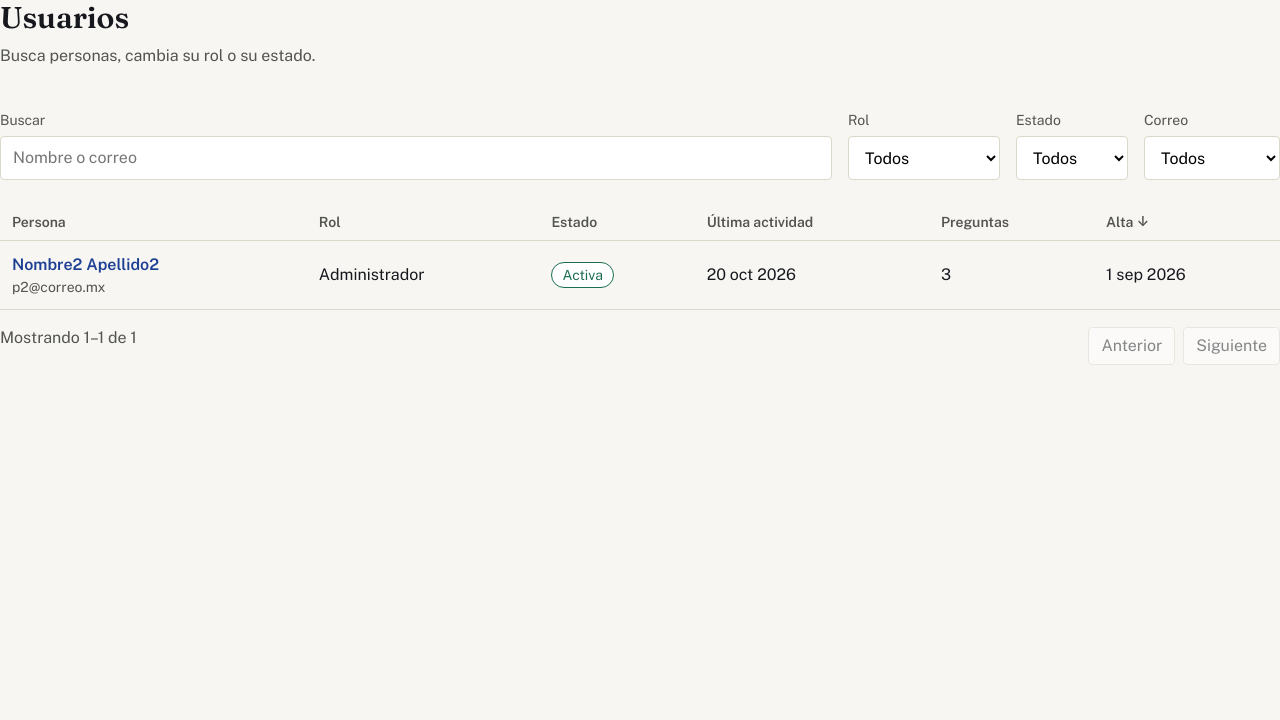
Test: Usuarios › un código de error conocido se muestra con texto propio
Click the button "Nombre2 Apellido2" at (86,265), box [12,253,159,277]
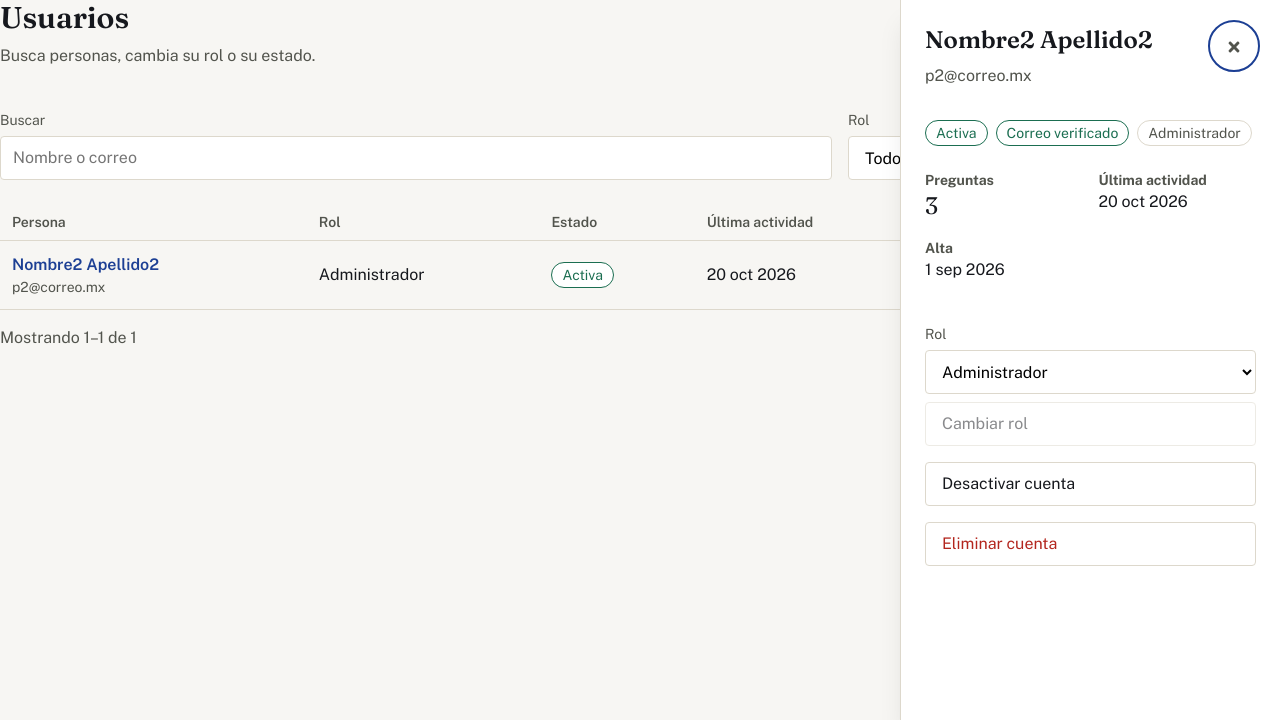
Click the button "Desactivar cuenta" at (1009,484), box [925,462,1256,506]
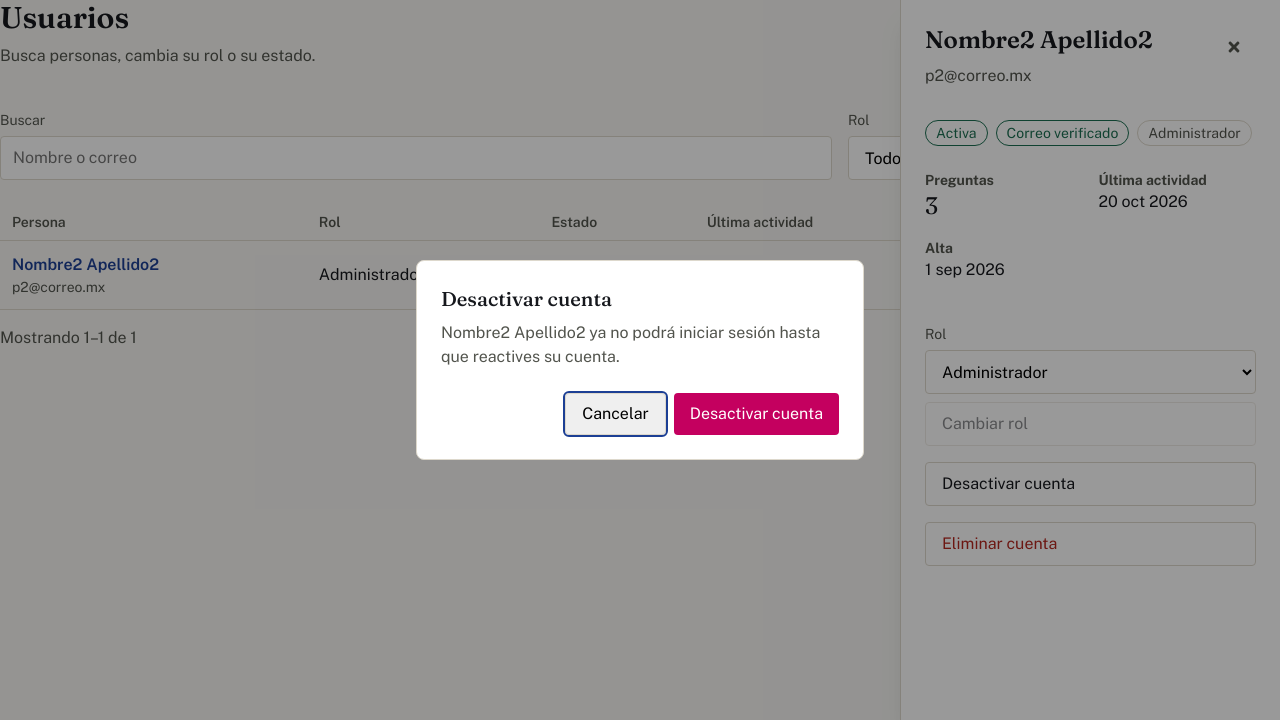
Click the button "Desactivar cuenta" at (756,414), box [674,393,839,435]
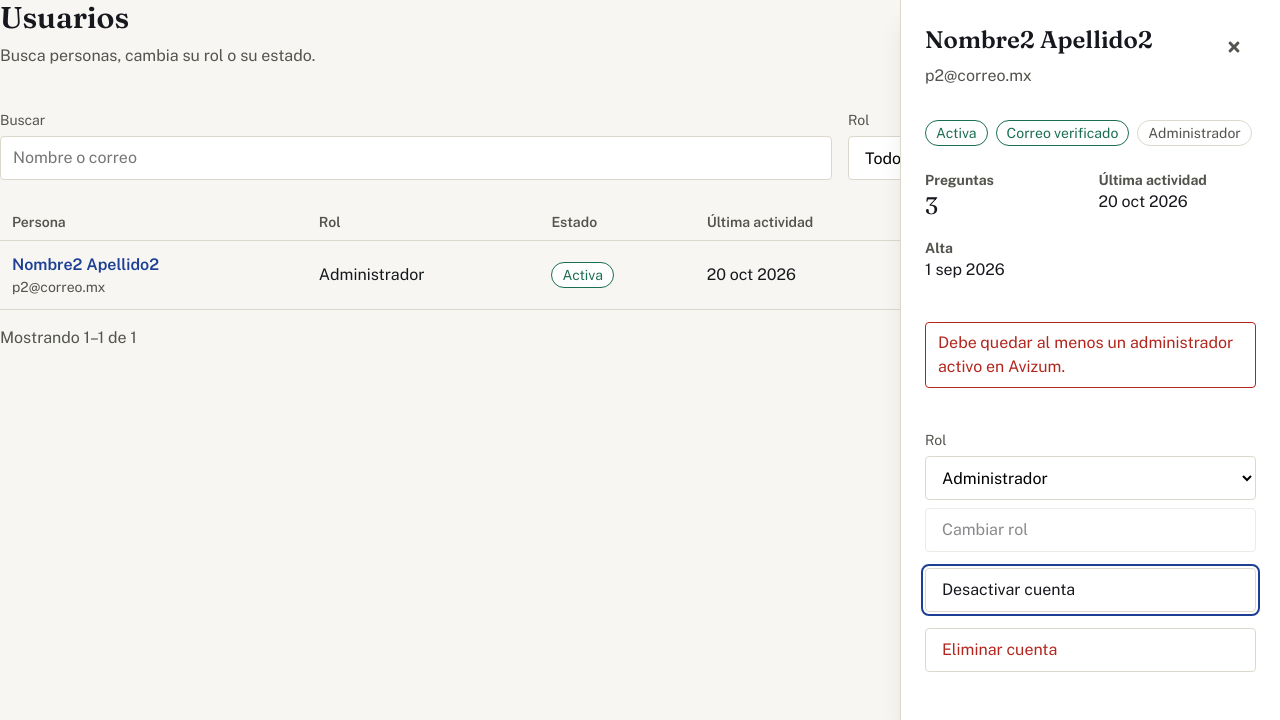
Expected: the message shows "Debe quedar al menos un administrador activo", [938,333,1233,376]
